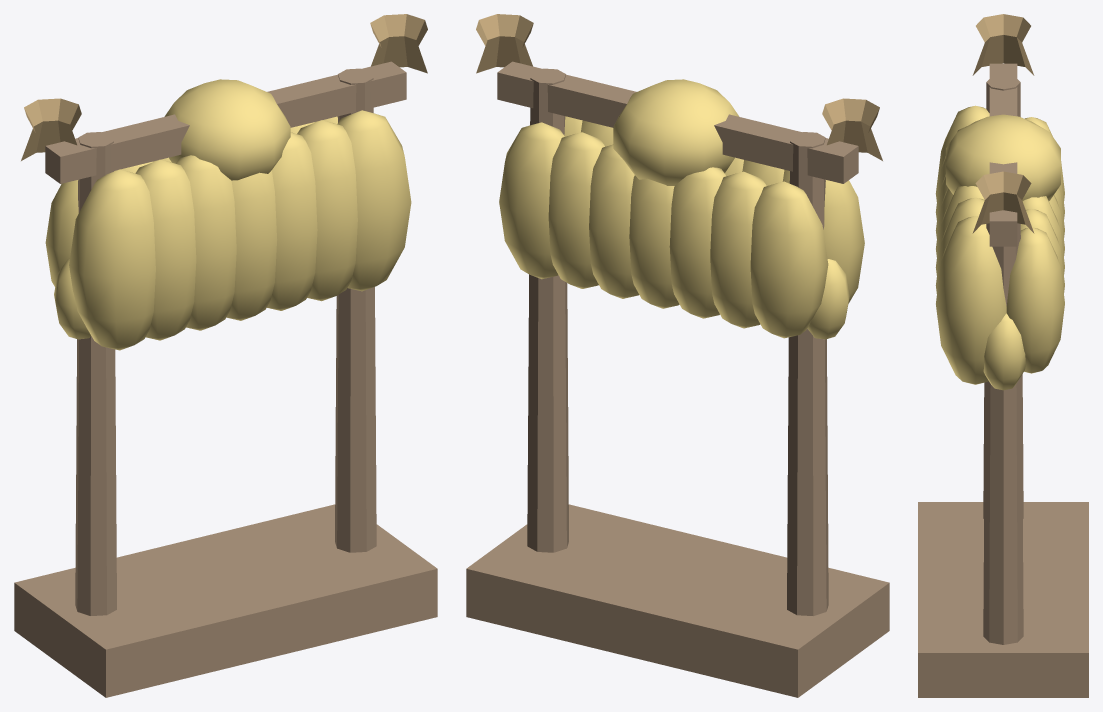
Rendered from mythic-underworld-and-olympus-golden-fleece-stand-0a515766__21413.glb.
The picture shows the model from 3 angles, left to right: view 1: azimuth 30°, elevation 25°; view 2: azimuth 150°, elevation 25°; view 3: azimuth 270°, elevation 25°; orthographic projection. The views are drawn at different scales.
Parts seen in each view (by area): view 1: golden-fleece-stand; view 2: golden-fleece-stand; view 3: golden-fleece-stand.
Part boxes in pixels (x1,y1,x2,y2): golden-fleece-stand: (14,14,437,697); golden-fleece-stand: (466,14,889,697); golden-fleece-stand: (918,14,1088,697).
Size of the model in its own units: 1.4 by 1.84 by 0.5501.
